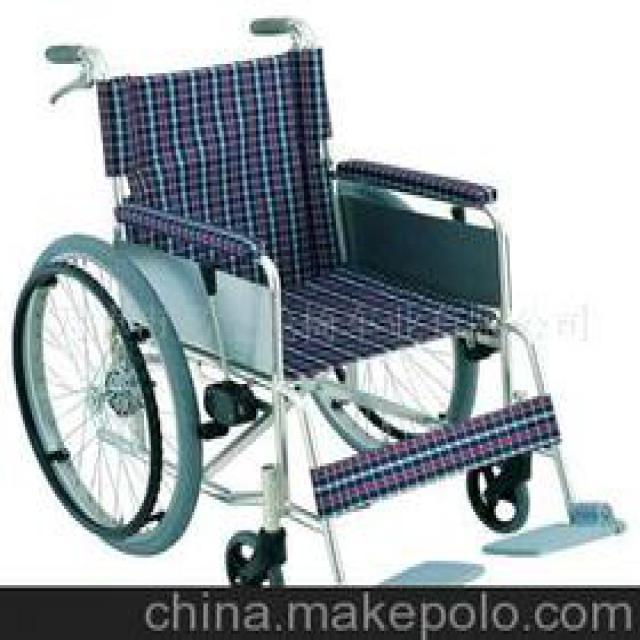wheelchairs: (15, 22, 617, 581)
